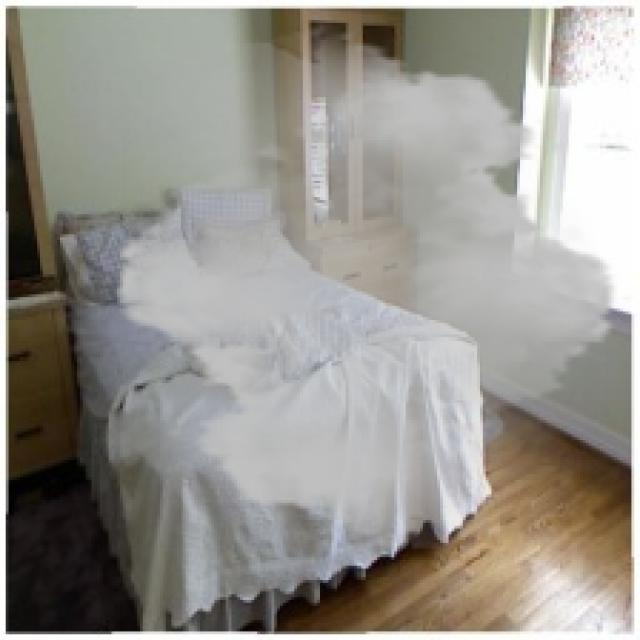Smoke: (94, 31, 637, 548)
